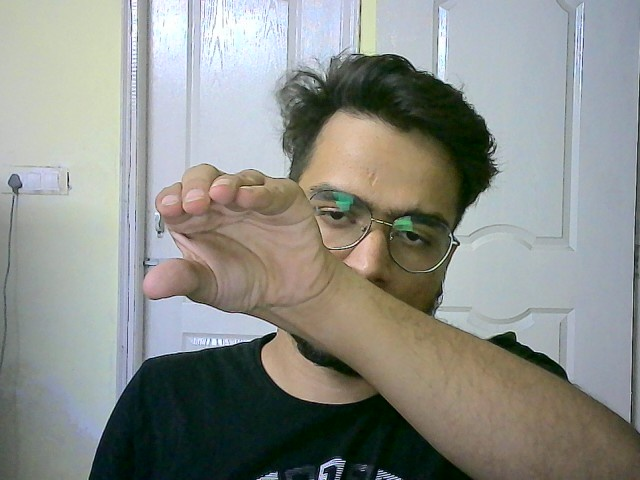No: (128, 159, 332, 319)
